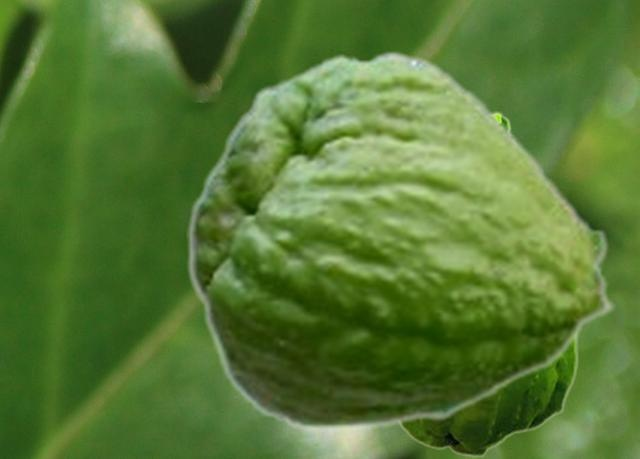sayote: (186, 49, 617, 432), (397, 111, 578, 457)
